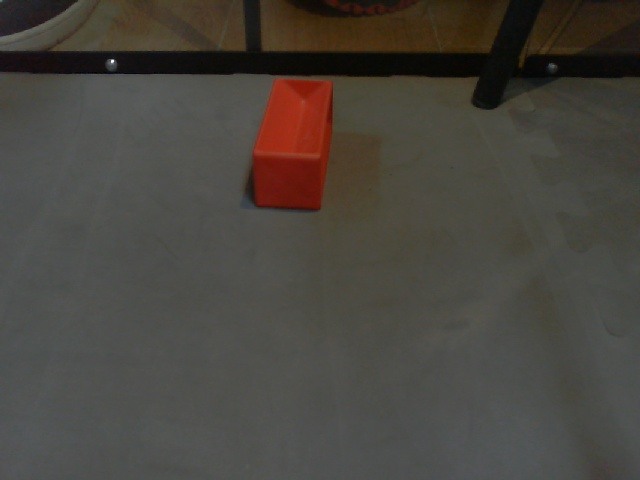RedSample: (245, 74, 341, 213)
